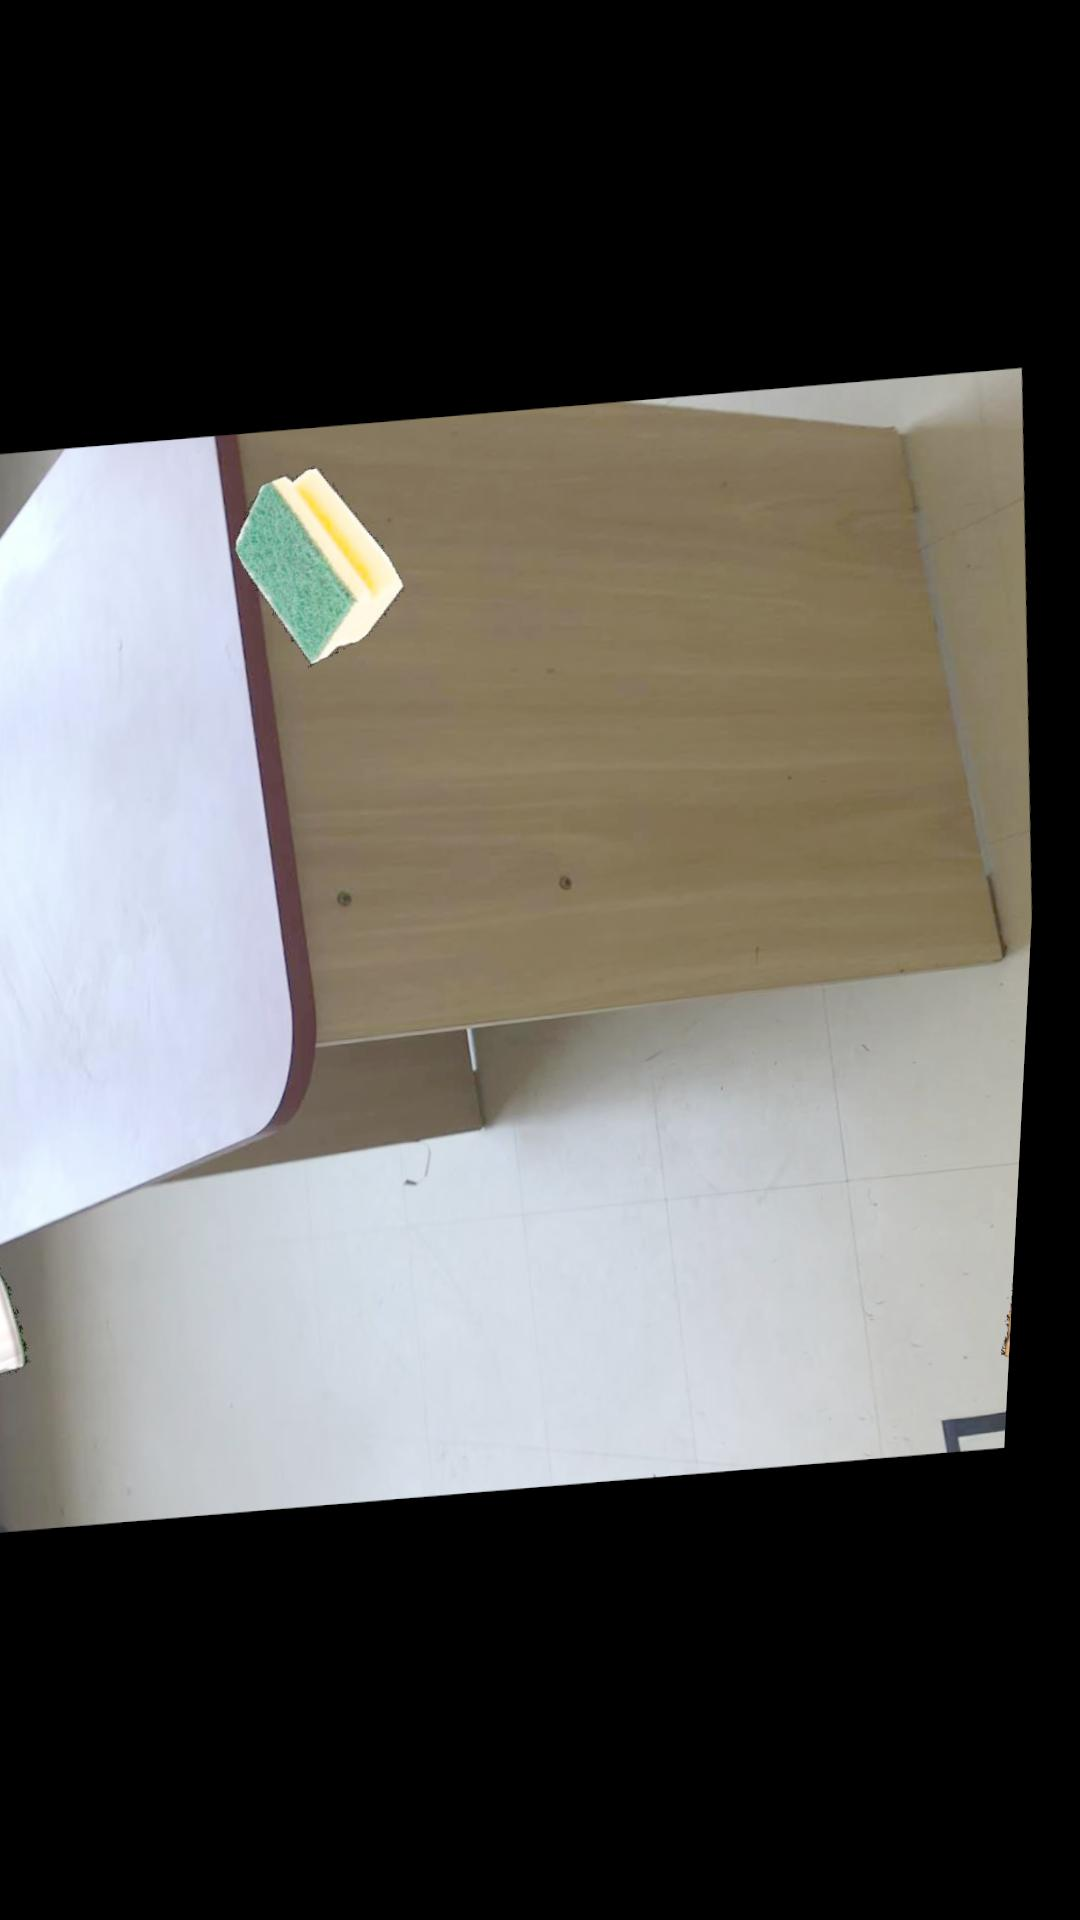corn flakes: (0, 1250, 41, 1382)
sponge: (237, 469, 407, 670)
